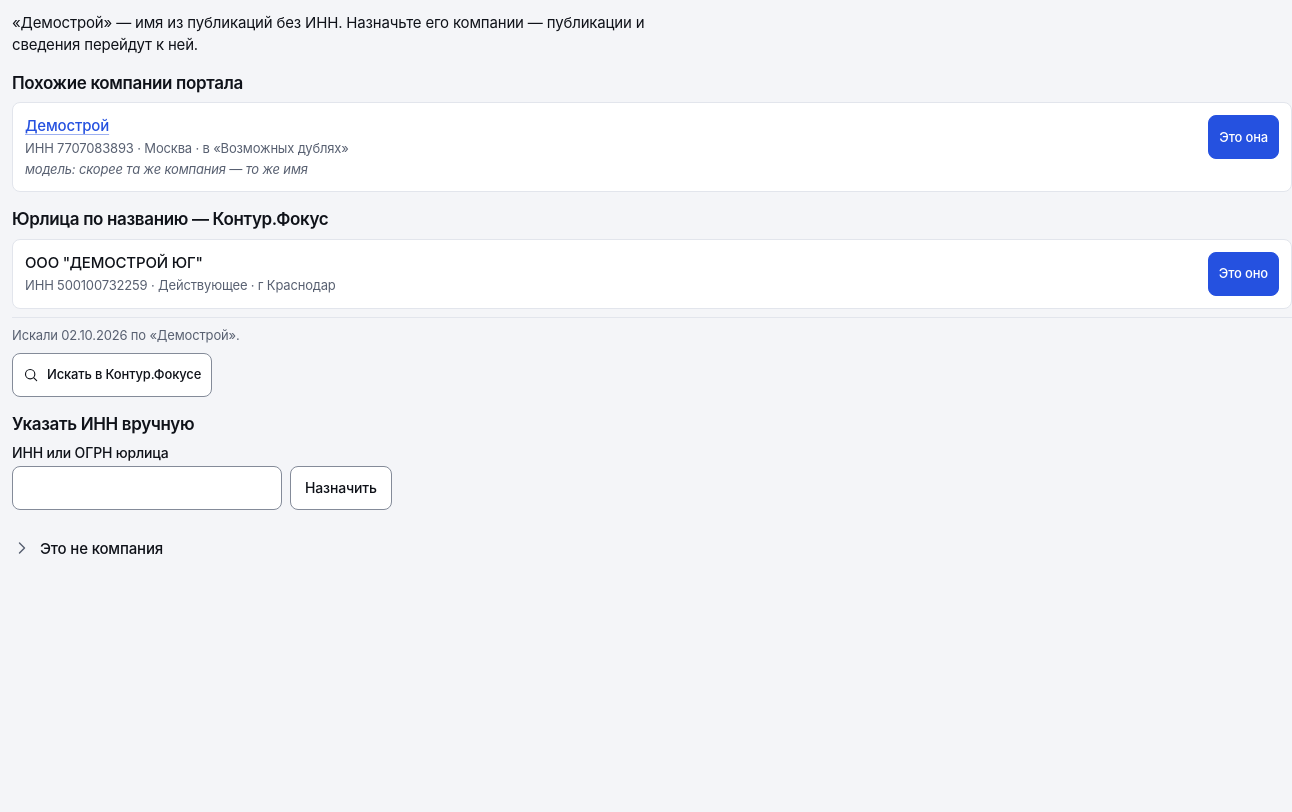
Test case: назначение имени без ИНН › опечатка в ручном реквизите — подсказка до запроса
The image size is (1292, 812).
Type "7707083894" into the field labelled "ИНН или ОГРН юрлица" at (147, 488), box [12, 466, 282, 510]
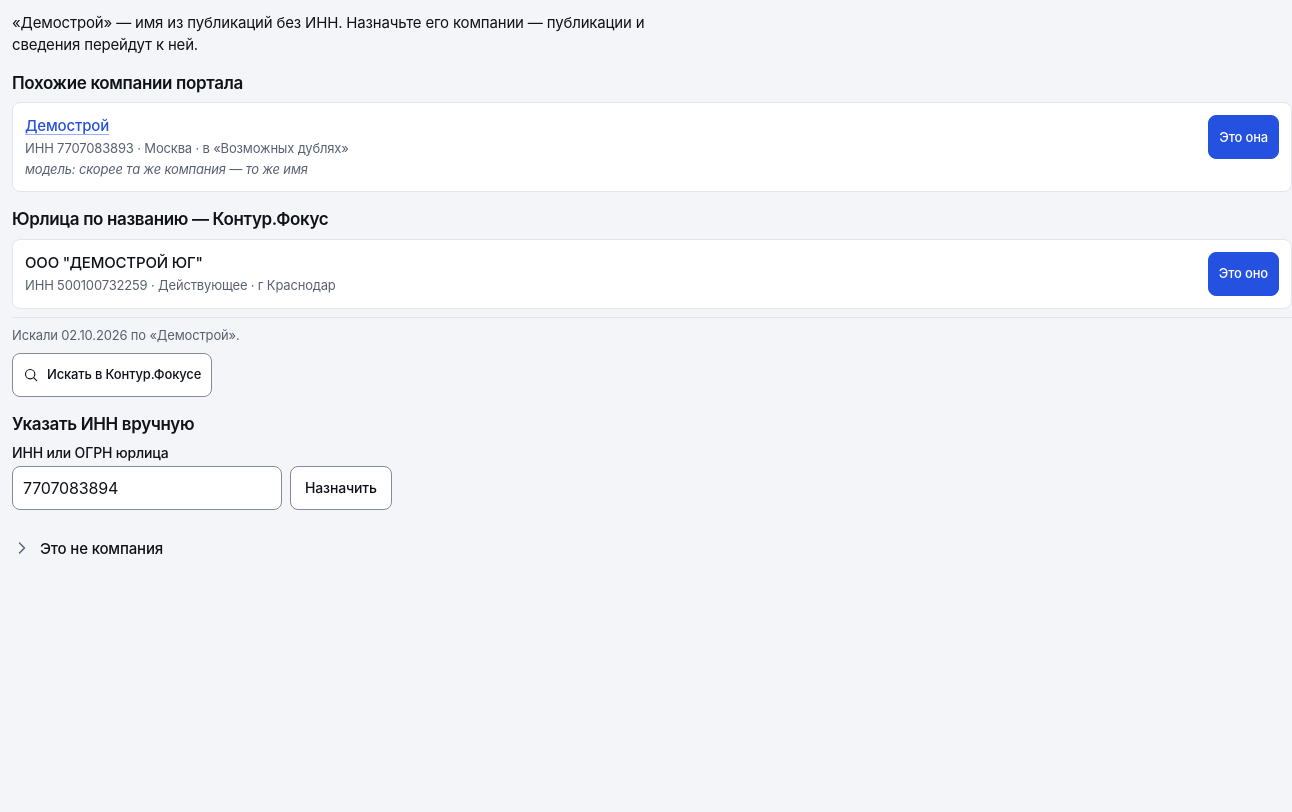
Click the button "Назначить" at (341, 488), box [290, 466, 392, 510]
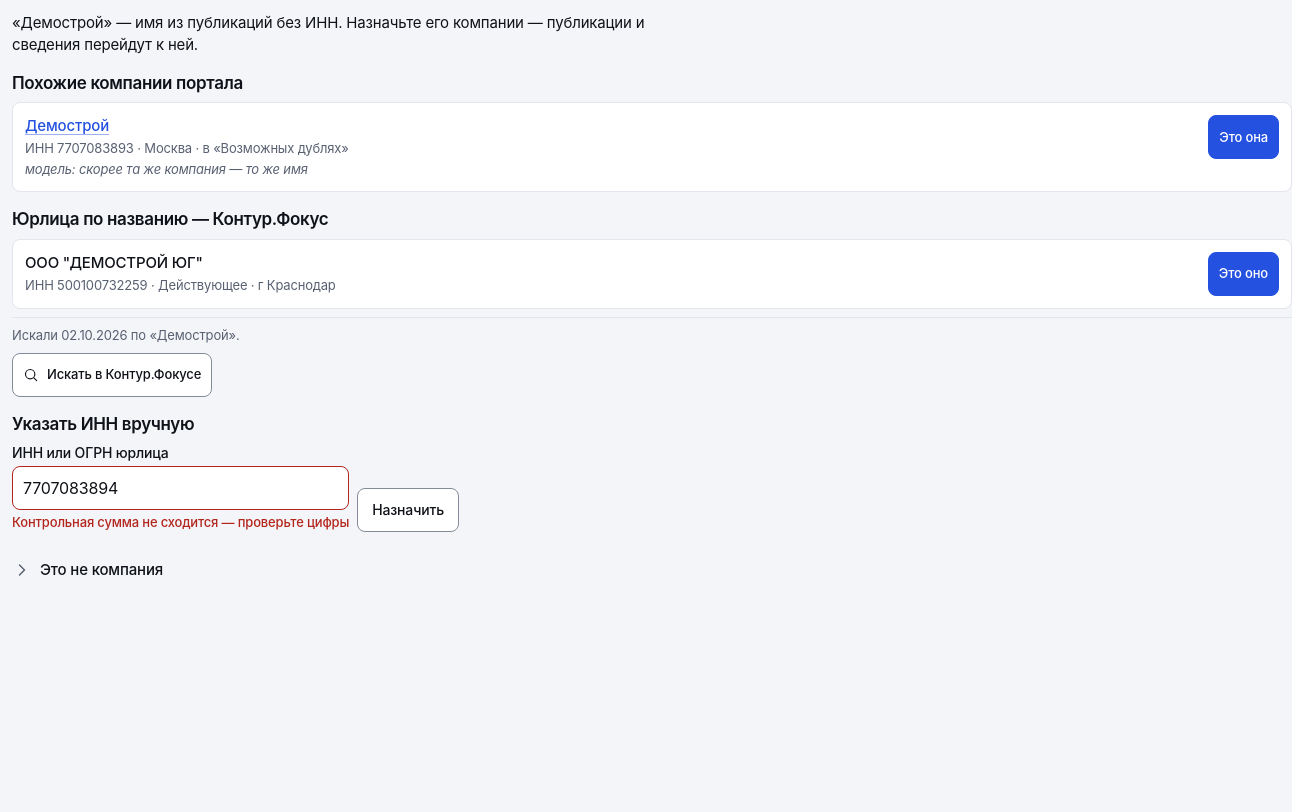
Expected: the text "Контрольная сумма не сходится — проверьте цифры" is shown, [12, 514, 349, 532]
